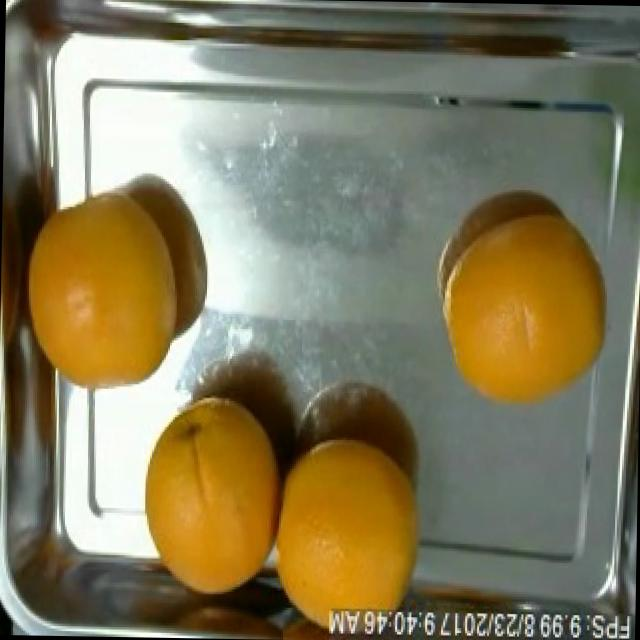Fruit: (270, 416, 442, 640)
